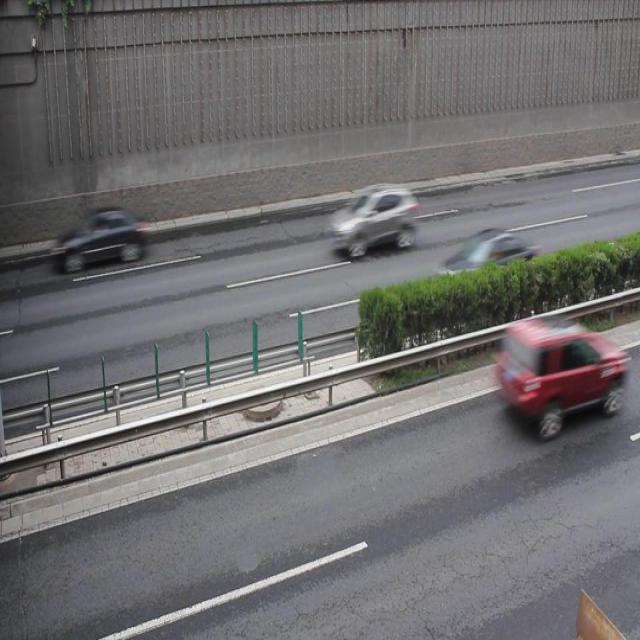car: (495, 312, 616, 433), (436, 228, 538, 304), (330, 180, 418, 259), (55, 204, 147, 274)
